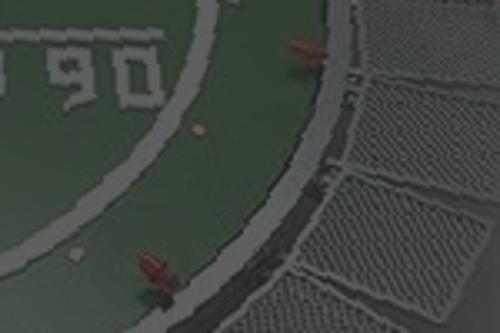Apron: (1, 1, 225, 287)
